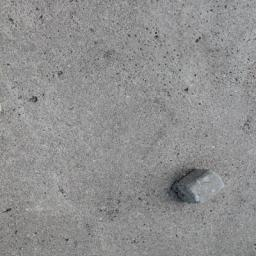FOD: (171, 165, 227, 210)
